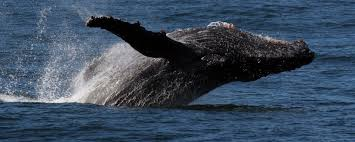humpback: (111, 23, 314, 106)
